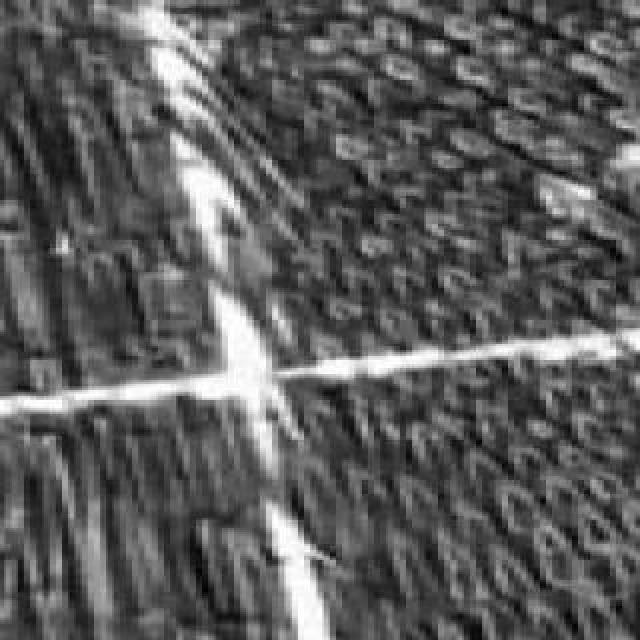Physical-damage: (152, 10, 637, 637)
